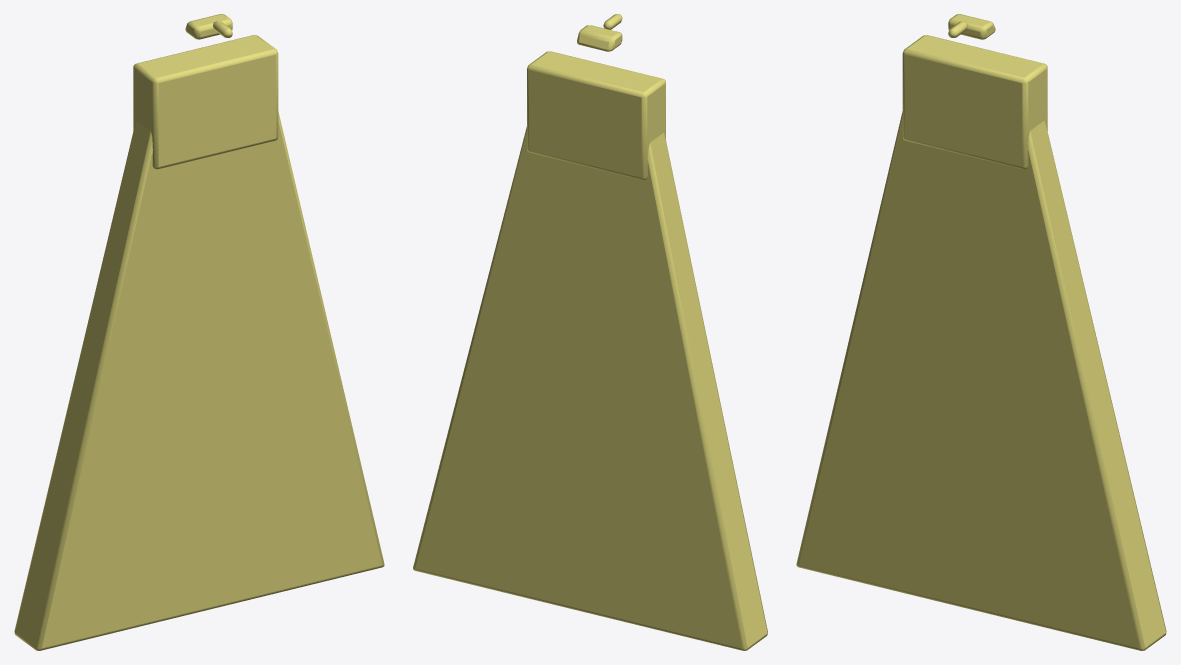
The model's file is AoMuaBo_TreoCua.glb.
3 views of the same model, side by side, from view 1: azimuth 30°, elevation 25°; view 2: azimuth 150°, elevation 25°; view 3: azimuth 330°, elevation 25° (orthographic). The views are drawn at different scales.
Visible parts, largest first — view 1: AoMuaBo_TreoCua; view 2: AoMuaBo_TreoCua; view 3: AoMuaBo_TreoCua.
Boxes of the visible parts, x1,y1,x2,y2 form: AoMuaBo_TreoCua: [14, 14, 384, 650]; AoMuaBo_TreoCua: [413, 14, 767, 650]; AoMuaBo_TreoCua: [796, 14, 1166, 650].
Bounding box in the file's own units: 0.5572 × 0.907 × 0.1198.
